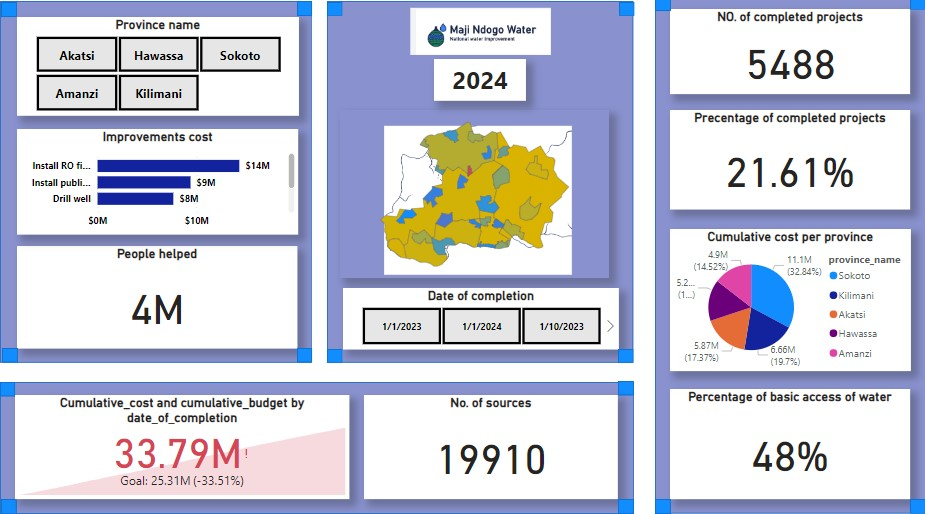

This screenshot's page, from the dashboard's own definition file:
{"tool":"powerbi","page":{"name":"Overview","canvas":[1280,720],"ordinal":0},"visuals":[{"type":"shape","box":[480.3,19.8,403,475.8],"z":0},{"type":"shape","box":[50.4,19.8,410.2,475.8],"z":1000},{"type":"image","box":[519,179,320.2,206],"z":2000},{"type":"shape","box":[911.2,13.5,357.1,680.9],"z":3000},{"type":"card","title":"NO. of completed projects","fields":{"Values":["project_progress.Number_completed_projects"]},"box":[931.9,30.6,315.7,112.4],"z":4000},{"type":"card","title":"Precentage of completed projects","fields":{"Values":["project_progress.Pct_project_complete"]},"box":[931.9,163.7,315.7,131.3],"z":5000},{"type":"shapeMap","fields":{"Category":["project_progress.town"],"Value":["project_progress.Pct_project_complete"]},"box":[497.4,163.7,354.4,221.3],"z":6000},{"type":"actionButton","box":[0,0,100,40],"z":7000},{"type":"card","title":"People helped","fields":{"Values":["water_source.population_now_basic_access"]},"box":[72.9,341.8,368.8,134.9],"z":8000},{"type":"card","title":"Percentage of basic access of water","fields":{"Values":["water_source.Basic_access_to_water"]},"box":[931.9,529.8,315.7,144.8],"z":9000},{"type":"slicer","title":"Date of completion","fields":{"Values":["project_progress.date_of_completion"]},"box":[500.8,396.7,363.1,80.6],"z":10000},{"type":"shape","box":[49.5,520.8,833.8,173.6],"z":11000},{"type":"shape","box":[49.5,520.8,19.8,18.9],"z":12000},{"type":"shape","box":[862.6,519.9,20.7,18.9],"z":13000},{"type":"shape","box":[440.8,476.7,19.8,18.9],"z":14000},{"type":"shape","box":[911.2,674.6,20.7,19.8],"z":15000},{"type":"shape","box":[911.2,13.5,20.7,19.8],"z":16000},{"type":"card","title":"No. of sources","fields":{"Values":["project_progress.No. of sources need to be improved"]},"box":[528.9,537.9,333.7,136.7],"z":17000},{"type":"slicer","title":"Province name","fields":{"Values":["location.province_name"]},"box":[72,40.5,370.6,129.5],"z":18000},{"type":"clusteredBarChart","title":"Improvements cost","fields":{"Category":["project_progress.Aggregated_improvements"],"Y":["Sum(project_progress.cost)"]},"box":[72.4,188.7,370.2,138.7],"z":19000},{"type":"shape","box":[52.2,476.7,20.7,18.9],"z":20000},{"type":"shape","box":[1248,11.4,20.6,19.4],"z":21000},{"type":"shape","box":[1248,674.9,20.6,19.4],"z":22000},{"type":"shape","box":[440.8,19.8,19.8,19.8],"z":23000},{"type":"shape","box":[51.3,20.7,20.7,19.8],"z":24000},{"type":"shape","box":[51.5,674.9,20.6,19.4],"z":25000},{"type":"shape","box":[862.6,674.6,20.7,19.8],"z":26000},{"type":"kpi","fields":{"TrendLine":["project_progress.date_of_completion"],"Goal":["project_progress.cumulative_budget"],"Indicator":["project_progress.Cumulative_cost"]},"box":[70.2,537.9,439.9,136.7],"z":27000},{"type":"pieChart","title":"Cumulative cost per province","fields":{"Y":["project_progress.Cumulative_cost"],"Category":["location.province_name"]},"box":[931.9,320.2,316.6,187.1],"z":28000},{"type":"image","box":[512,23.5,340.7,72.4],"z":29000},{"type":"shape","box":[862.9,477.3,20.4,18.4],"z":30000},{"type":"shape","box":[863.9,20.4,20.4,18.4],"z":31000},{"type":"shape","box":[480.4,477.3,20.4,18.4],"z":32000},{"type":"shape","box":[480.4,21.4,20.4,18.4],"z":33000},{"type":"textbox","box":[620.7,96.2,121.4,54.9],"z":34000}]}

Visuals, with their boxes in screenshot pixels (x1, y1, x2, y2), scaled from the page's 1280x720 canvas onto the 925x514 screenshot:
shape: rect(347, 14, 638, 354)
shape: rect(36, 14, 333, 354)
image: rect(375, 128, 606, 275)
shape: rect(658, 10, 917, 496)
"NO. of completed projects" card: rect(673, 22, 902, 102)
"Precentage of completed projects" card: rect(673, 117, 902, 211)
shapeMap - project_progress.town x project_progress.Pct_project_complete: rect(359, 117, 616, 275)
actionButton: rect(0, 0, 72, 29)
"People helped" card: rect(53, 244, 319, 340)
"Percentage of basic access of water" card: rect(673, 378, 902, 482)
"Date of completion" slicer: rect(362, 283, 624, 341)
shape: rect(36, 372, 638, 496)
shape: rect(36, 372, 50, 385)
shape: rect(623, 371, 638, 385)
shape: rect(319, 340, 333, 354)
shape: rect(658, 482, 673, 496)
shape: rect(658, 10, 673, 24)
"No. of sources" card: rect(382, 384, 623, 482)
"Province name" slicer: rect(52, 29, 320, 121)
"Improvements cost" clusteredBarChart: rect(52, 135, 320, 234)
shape: rect(38, 340, 53, 354)
shape: rect(902, 8, 917, 22)
shape: rect(902, 482, 917, 496)
shape: rect(319, 14, 333, 28)
shape: rect(37, 15, 52, 29)
shape: rect(37, 482, 52, 496)
shape: rect(623, 482, 638, 496)
kpi - project_progress.date_of_completion x project_progress.cumulative_budget: rect(51, 384, 369, 482)
"Cumulative cost per province" pieChart: rect(673, 229, 902, 362)
image: rect(370, 17, 616, 68)
shape: rect(624, 341, 638, 354)
shape: rect(624, 15, 639, 28)
shape: rect(347, 341, 362, 354)
shape: rect(347, 15, 362, 28)
textbox: rect(449, 69, 536, 108)
